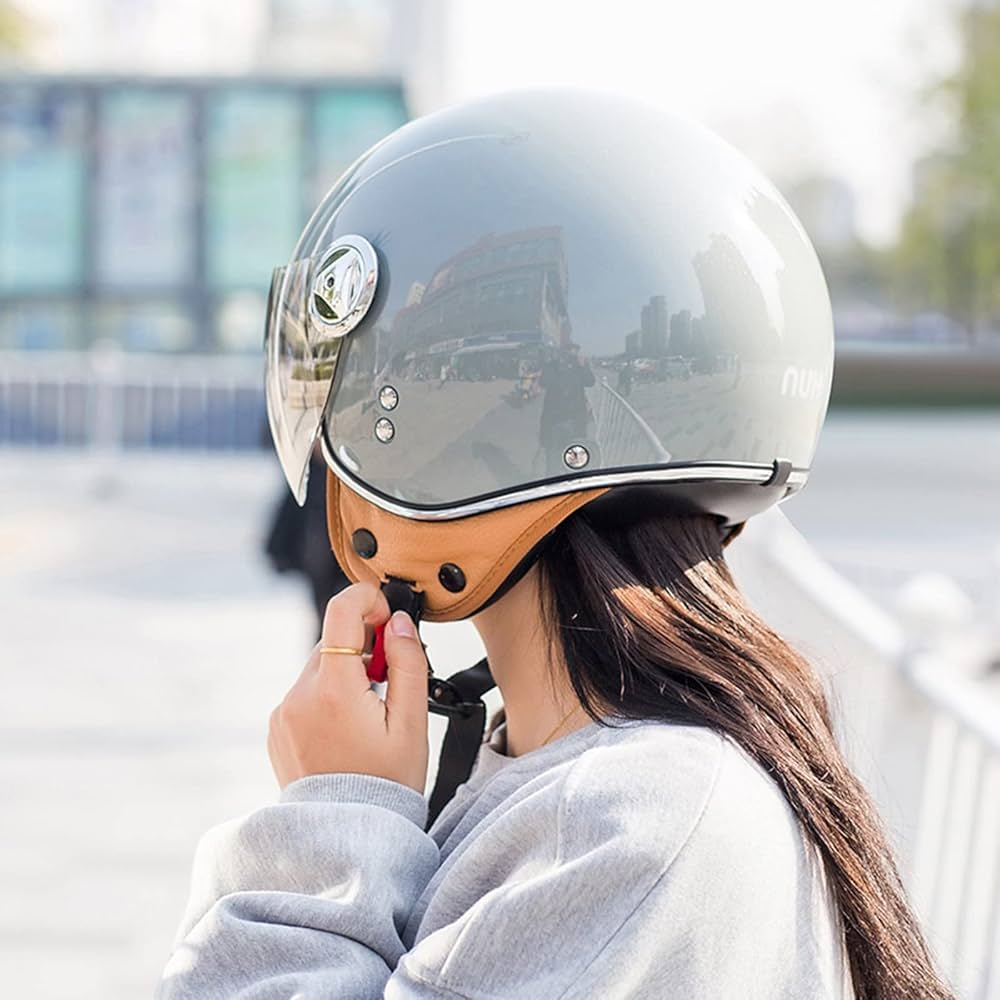helmets: (213, 70, 897, 587)
